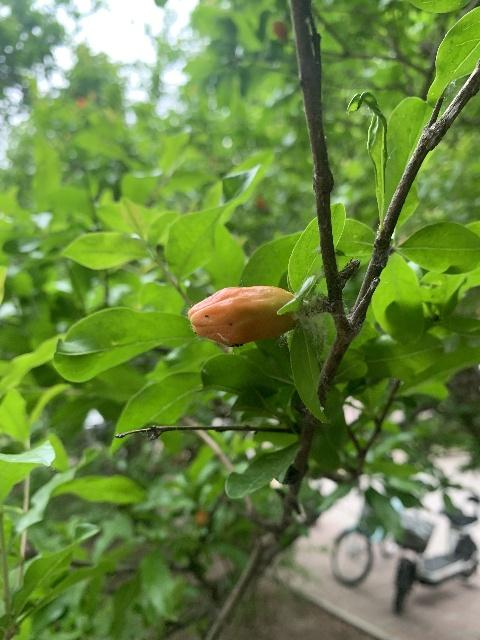bud: (187, 284, 298, 346)
